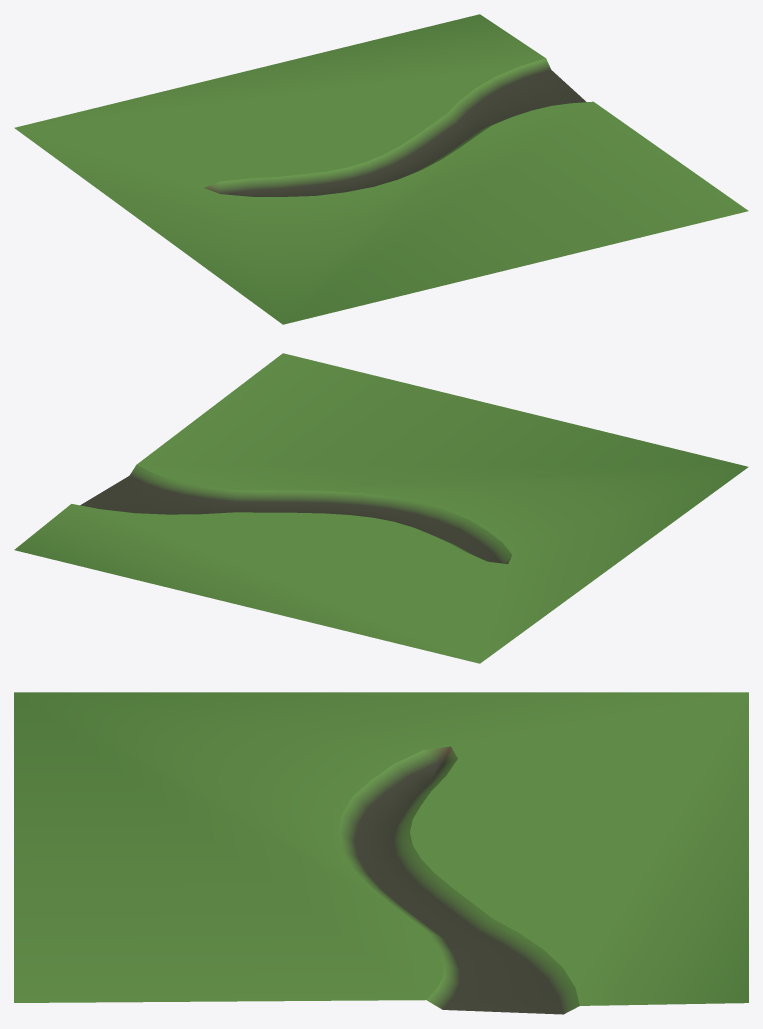
Rendered from terrain.glb.
3 views of the same model, one above another, from view 1: azimuth 30°, elevation 25°; view 2: azimuth 150°, elevation 25°; view 3: azimuth 270°, elevation 25° (orthographic). The views are drawn at different scales.
Parts seen in each view (by area): view 1: m; view 2: m; view 3: m.
Boxes of the visible parts, x1,y1,x2,y2 form: m: (14,14,748,324); m: (14,353,748,663); m: (14,692,748,1014).
Size of the model in its own units: 40.38 by 0.55 by 40.
